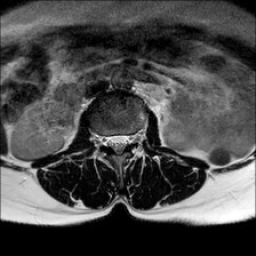CCS_normal: (114, 125, 122, 161)
LFS_normal: (130, 124, 138, 151)
LLS_normal: (122, 125, 130, 155)
RFS_normal: (98, 125, 107, 153)
RLS_normal: (106, 126, 114, 155)
